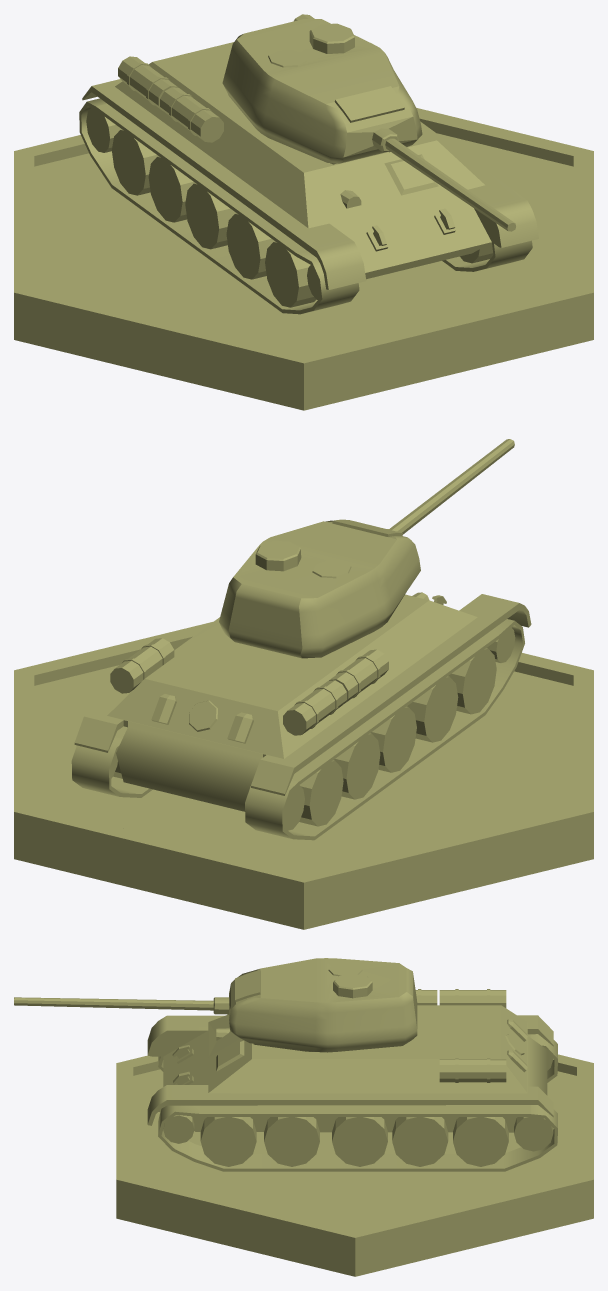
3 renders of one model, top to bottom at view 1: azimuth 30°, elevation 25°; view 2: azimuth 150°, elevation 25°; view 3: azimuth 270°, elevation 25°, orthographic. The views are drawn at different scales.
Visible parts, largest first — view 1: polySurface21; view 2: polySurface21; view 3: polySurface21.
Boxes of the visible parts, x1=… form: polySurface21: x1=14, y1=14, x2=593, y2=410; polySurface21: x1=14, y1=439, x2=593, y2=929; polySurface21: x1=14, y1=958, x2=593, y2=1276.
Bounding box in the file's own units: 23.1 × 8.79 × 24.29.
